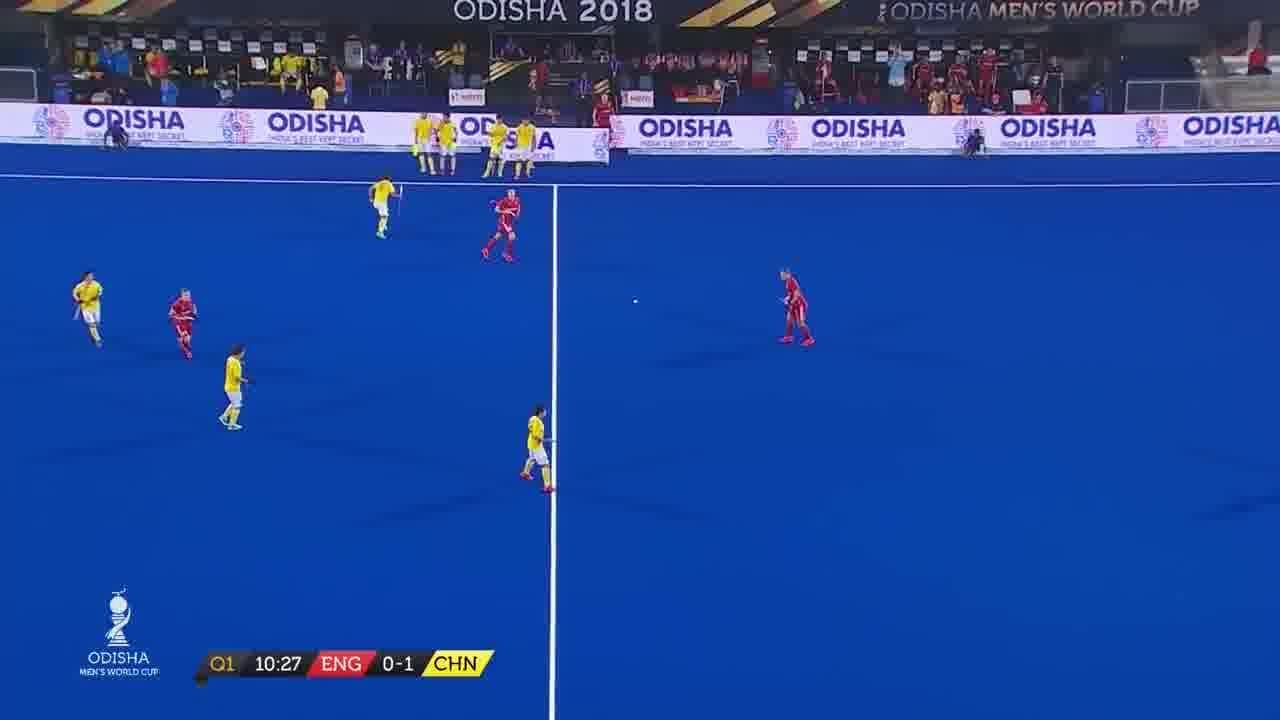ball: (630, 297, 642, 309)
